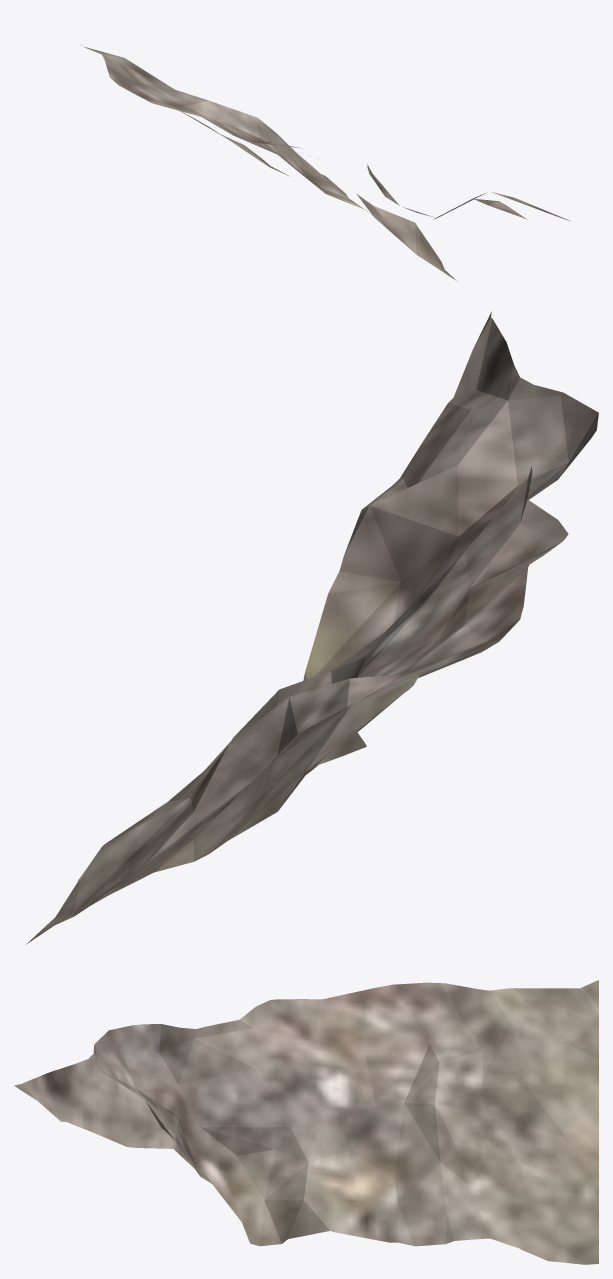
3 views of the same model, one above another, from view 1: azimuth 30°, elevation 25°; view 2: azimuth 150°, elevation 25°; view 3: azimuth 270°, elevation 25° (orthographic). The views are drawn at different scales.
Size of the model in its own units: 0.5345 by 0.4239 by 1.25.
Materials: 1 (1 with a texture image).
